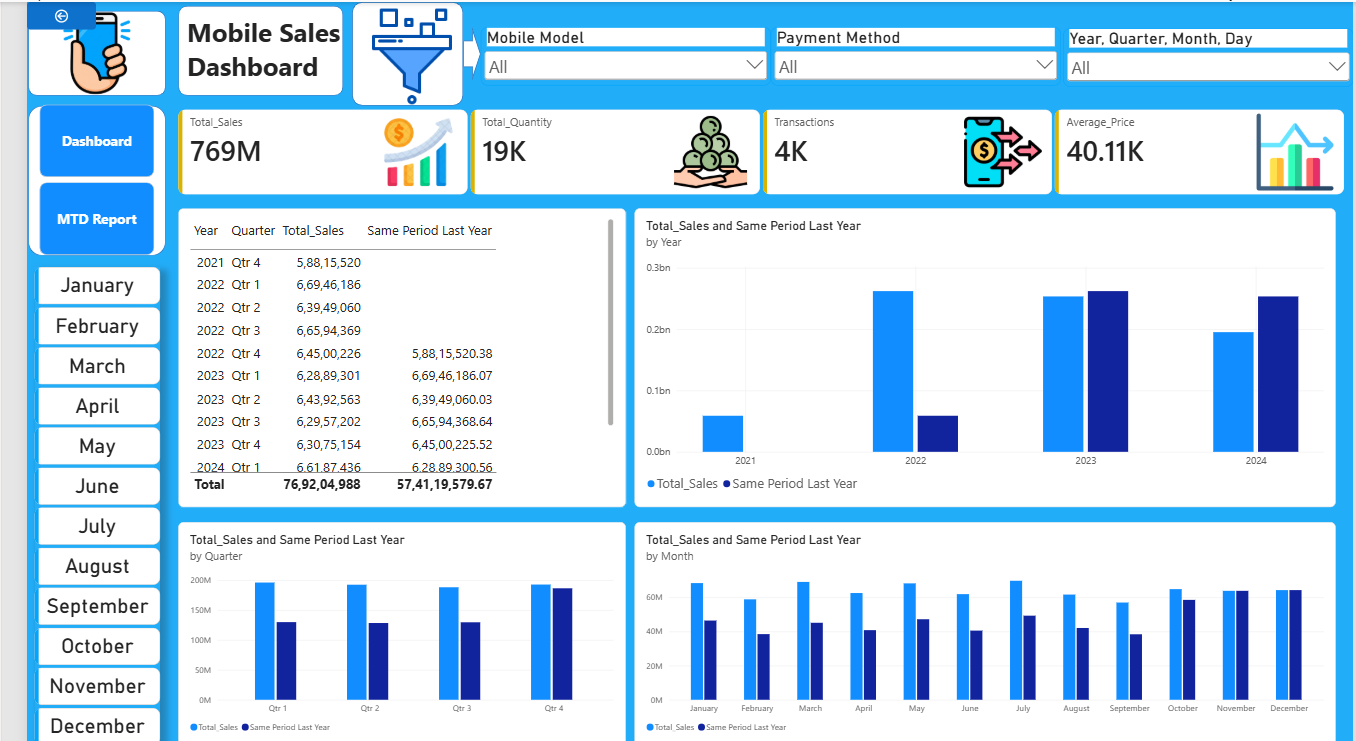

The dashboard page shown, as its layout file describes it:
{"tool":"powerbi","page":{"name":"Dashboard","canvas":[1920,1080],"ordinal":0},"visuals":[{"type":"shape","box":[1.8,12.7,199.1,123.1],"z":0},{"type":"image","box":[18.1,12.7,166.5,123.1],"z":1000},{"type":"shape","box":[1.8,150.2,199.1,217.2],"z":2000},{"type":"shape","box":[1.8,383.6,199.1,696.7],"z":3000},{"type":"advancedSlicerVisual","fields":{"Values":["Custom_Calendar.Date.Variation.Date Hierarchy.Month"]},"box":[10.9,383.6,182.8,696.7],"z":4000},{"type":"cardVisual","fields":{"Data":["Mobile_Sales_Data.Total_Sales","Mobile_Sales_Data.Total_Quantity","Mobile_Sales_Data.Transactions","Mobile_Sales_Data.Average_Price"]},"box":[219,155.6,1688.4,123.1],"z":5000},{"type":"slicer","fields":{"Values":["Mobile_Sales_Data.Mobile Model"]},"box":[656.9,36.2,419.8,85.1],"z":6000},{"type":"slicer","fields":{"Values":["Mobile_Sales_Data.Payment Method"]},"box":[1076.7,36.2,419.8,85.1],"z":7000},{"type":"slicer","fields":{"Values":["Mobile_Sales_Data.Brand"]},"box":[1500.2,38,419.8,85.1],"z":8000},{"type":"shape","box":[470.5,0,161.1,150.2],"z":9000},{"type":"image","box":[322.1,7.2,470.5,143],"z":10000},{"type":"shape","box":[631.6,36.2,25.3,77.8],"z":11000},{"type":"shape","box":[219,5.4,238.9,130.3],"z":12000},{"type":"textbox","box":[231.6,18.1,238.9,103.2],"z":13000},{"type":"map","fields":{"Category":["Mobile_Sales_Data.City"],"Size":["Mobile_Sales_Data.Total_Sales"]},"box":[219,278.7,412.6,548.3],"z":14000},{"type":"lineChart","fields":{"Y":["Mobile_Sales_Data.Total_Quantity"],"Category":["Custom_Calendar.Date.Variation.Date Hierarchy.Month"]},"box":[644.2,291.4,1263.1,233.4],"z":15000},{"type":"funnel","title":" Customer Ratings by Rating Status","fields":{"Y":["CountNonNull(Mobile_Sales_Data.Customer Ratings)"],"Category":["Mobile_Sales_Data.Rating Status"]},"box":[644.3,539.3,631.9,288.2],"z":16000},{"type":"pieChart","fields":{"Y":["Mobile_Sales_Data.Transactions"],"Category":["Mobile_Sales_Data.Payment Method"]},"box":[1286.5,541.3,621.6,286.1],"z":17000},{"type":"clusteredBarChart","fields":{"Y":["Mobile_Sales_Data.Total_Sales"],"Category":["Mobile_Sales_Data.Mobile Model"]},"box":[644.2,839.7,631.6,240.7],"z":18000},{"type":"areaChart","fields":{"Y":["Mobile_Sales_Data.Total_Sales"],"Category":["Custom_Calendar.Day Name"]},"box":[1288.5,839.7,618.9,240.7],"z":19000},{"type":"tableEx","fields":{"Values":["Mobile_Sales_Data.Brand","Mobile_Sales_Data.Total_Sales","Mobile_Sales_Data.Transactions"]},"box":[219,839.7,412.6,240.7],"z":20000},{"type":"pageNavigator","box":[18.1,148.4,166.5,219],"z":21001}]}

Visuals, with their boxes in screenshot pixels (x1, y1, x2, y2), scaled from the page's 1920x1080 canvas onto the 1356x741 screenshot:
shape: bbox=(1, 9, 142, 93)
image: bbox=(13, 9, 130, 93)
shape: bbox=(1, 103, 142, 252)
shape: bbox=(1, 263, 142, 740)
advancedSlicerVisual - Custom_Calendar.Date.Variation.Date Hierarchy.Month: bbox=(8, 263, 137, 740)
cardVisual - Mobile_Sales_Data.Total_Sales x Mobile_Sales_Data.Total_Quantity: bbox=(155, 107, 1347, 191)
slicer - Mobile_Sales_Data.Mobile Model: bbox=(464, 25, 760, 83)
slicer - Mobile_Sales_Data.Payment Method: bbox=(760, 25, 1057, 83)
slicer - Mobile_Sales_Data.Brand: bbox=(1060, 26, 1355, 84)
shape: bbox=(332, 0, 446, 103)
image: bbox=(227, 5, 560, 103)
shape: bbox=(446, 25, 464, 78)
shape: bbox=(155, 4, 323, 93)
textbox: bbox=(164, 12, 332, 83)
map - Mobile_Sales_Data.City x Mobile_Sales_Data.Total_Sales: bbox=(155, 191, 446, 567)
lineChart - Mobile_Sales_Data.Total_Quantity x Custom_Calendar.Date.Variation.Date Hierarchy.Month: bbox=(455, 200, 1347, 360)
" Customer Ratings by Rating Status" funnel: bbox=(455, 370, 901, 568)
pieChart - Mobile_Sales_Data.Transactions x Mobile_Sales_Data.Payment Method: bbox=(909, 371, 1348, 568)
clusteredBarChart - Mobile_Sales_Data.Total_Sales x Mobile_Sales_Data.Mobile Model: bbox=(455, 576, 901, 740)
areaChart - Mobile_Sales_Data.Total_Sales x Custom_Calendar.Day Name: bbox=(910, 576, 1347, 740)
tableEx - Mobile_Sales_Data.Brand x Mobile_Sales_Data.Total_Sales: bbox=(155, 576, 446, 740)
pageNavigator: bbox=(13, 102, 130, 252)
